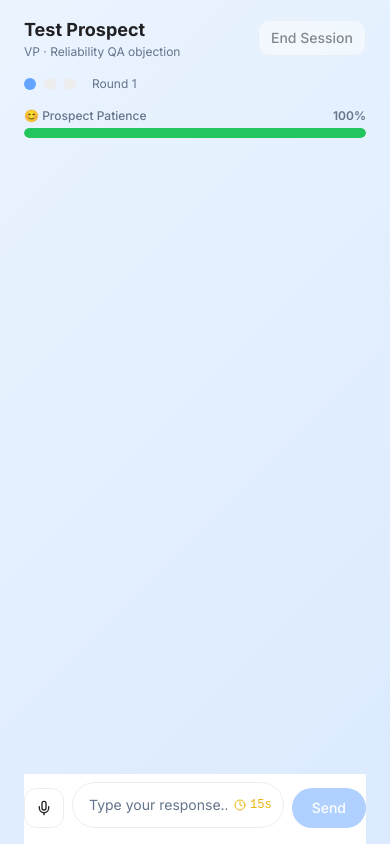
Test: GamifiedRoleplay Phase 2A reliability › keeps an upstream quota rejection recoverable without patience or accounting changes
Type "Please consider a pilot next quarter." into the field with placeholder "Type your response…" at x=178, y=805, box [72, 782, 284, 828]
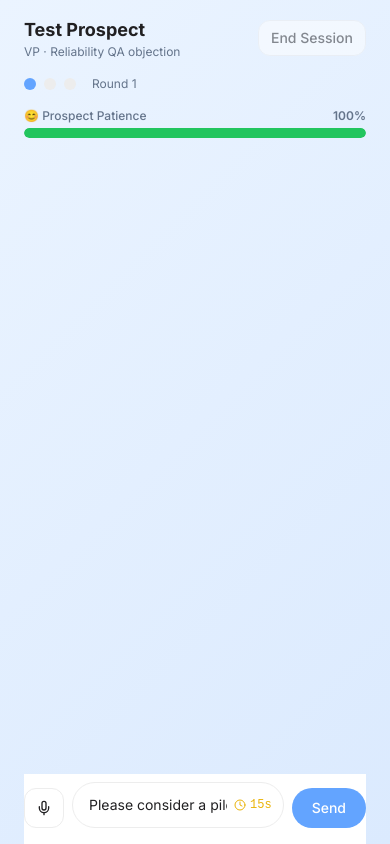
Click the button "Send" at x=329, y=808, box [292, 788, 366, 828]
Wait 60000 ms
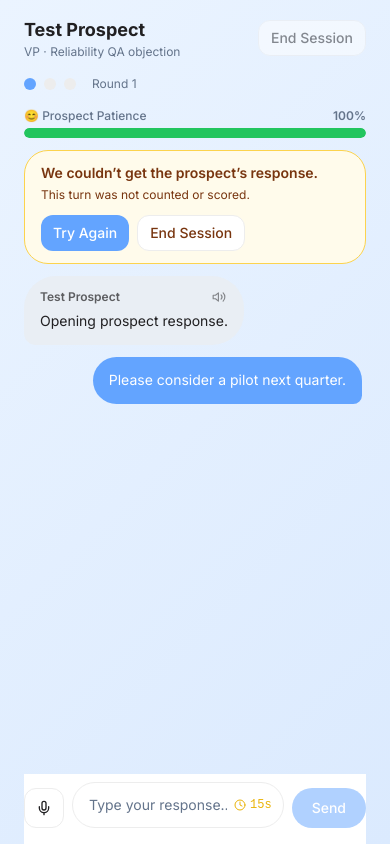
Check: the text "This turn was not counted or scored." is shown, box [41, 187, 250, 202]
Check: the text "Please consider a pilot next quarter." is shown once, box [93, 357, 362, 404]
Check: the button "Try Again" is shown, box [41, 215, 129, 251]
